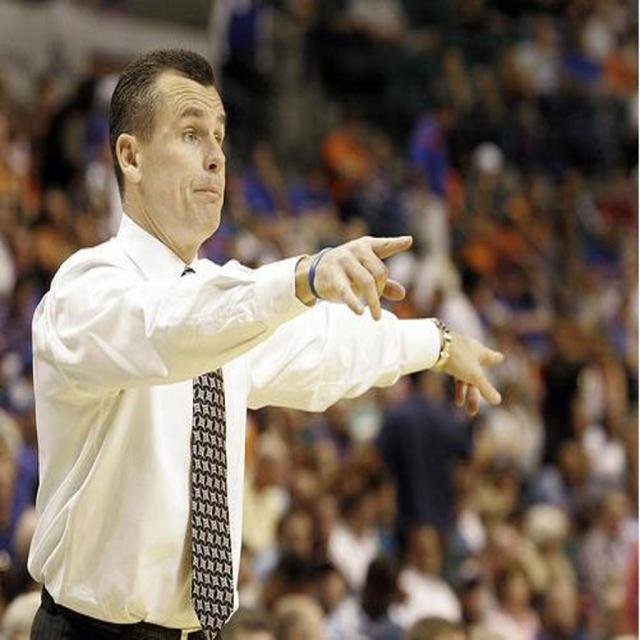nomask: (138, 58, 228, 234)
